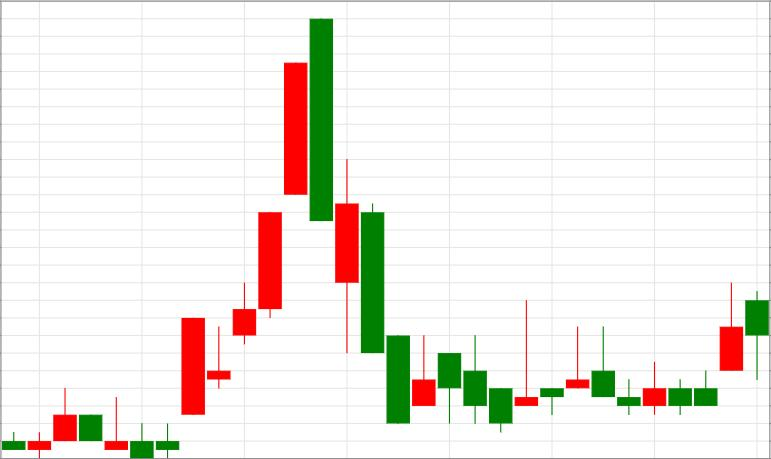bearish_engulfing_fall: (182, 19, 332, 415)
hanging_man_fall: (618, 282, 769, 416)
inverse_hammer_rise: (310, 19, 435, 423)
